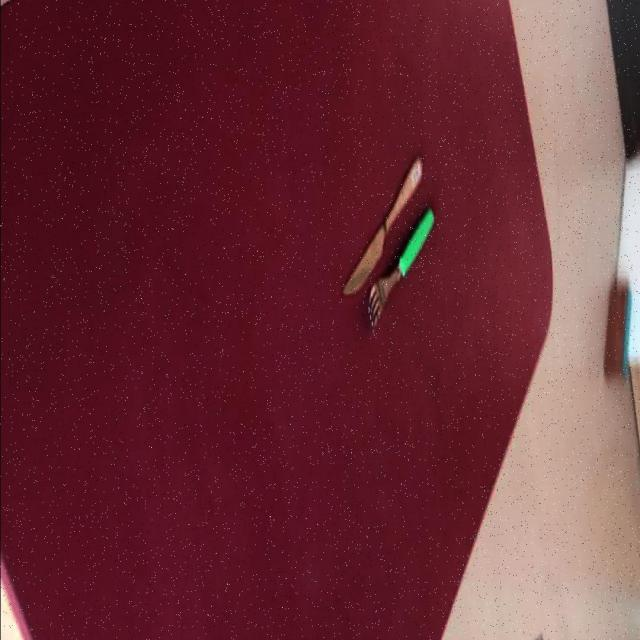Fork: (368, 205, 436, 334)
Knife: (341, 155, 424, 295)
